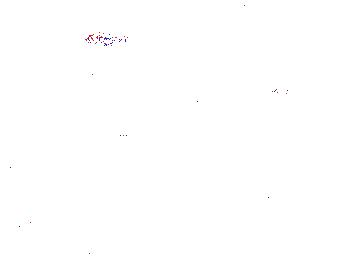X-ray fish: (119, 121, 158, 148)
red belly glassfish: (83, 30, 133, 49), (270, 85, 292, 99)
